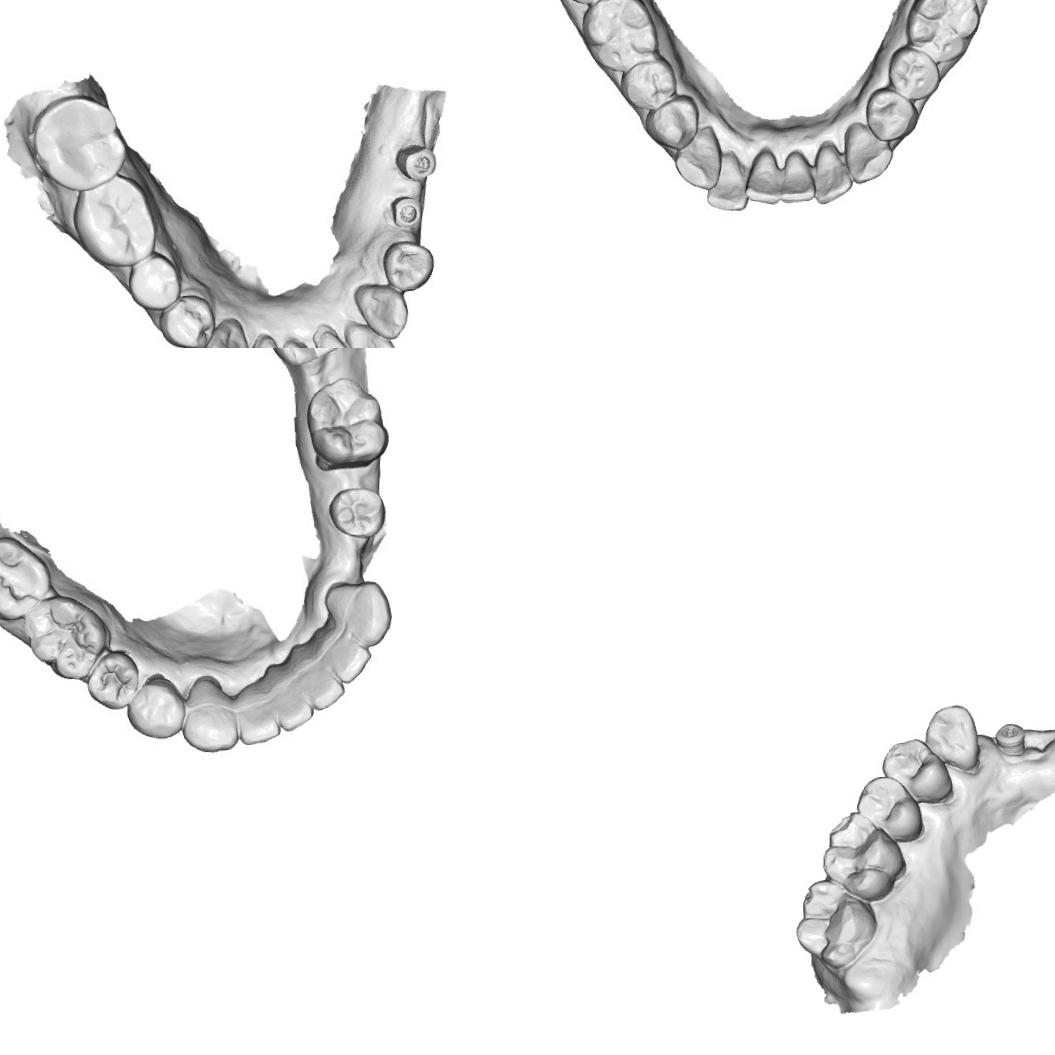canine: (322, 578, 395, 648), (179, 675, 239, 755), (921, 702, 982, 776), (350, 278, 410, 342), (840, 116, 892, 187), (670, 130, 720, 192), (199, 318, 253, 348)
implant: (390, 139, 441, 188), (386, 193, 429, 233)
implant_minus: (992, 716, 1024, 756)
incisor: (232, 688, 280, 746), (704, 154, 750, 212), (741, 148, 784, 210), (324, 637, 373, 686), (268, 680, 314, 732), (300, 662, 346, 711), (815, 144, 853, 202), (779, 153, 812, 202), (344, 320, 397, 348), (314, 328, 362, 348), (241, 334, 291, 348)
molar: (25, 88, 125, 195), (302, 372, 392, 474), (788, 875, 879, 970), (818, 808, 904, 908), (23, 591, 115, 682), (72, 178, 154, 270), (905, 0, 978, 64), (587, 0, 656, 64), (0, 530, 46, 623), (260, 348, 348, 370)
premolar: (853, 772, 928, 844), (877, 736, 951, 806), (124, 670, 182, 741), (326, 480, 388, 540), (82, 648, 140, 712), (378, 235, 438, 294), (128, 249, 182, 313), (866, 90, 922, 142), (159, 297, 213, 348), (645, 96, 700, 146), (620, 56, 672, 108), (894, 55, 940, 98)
